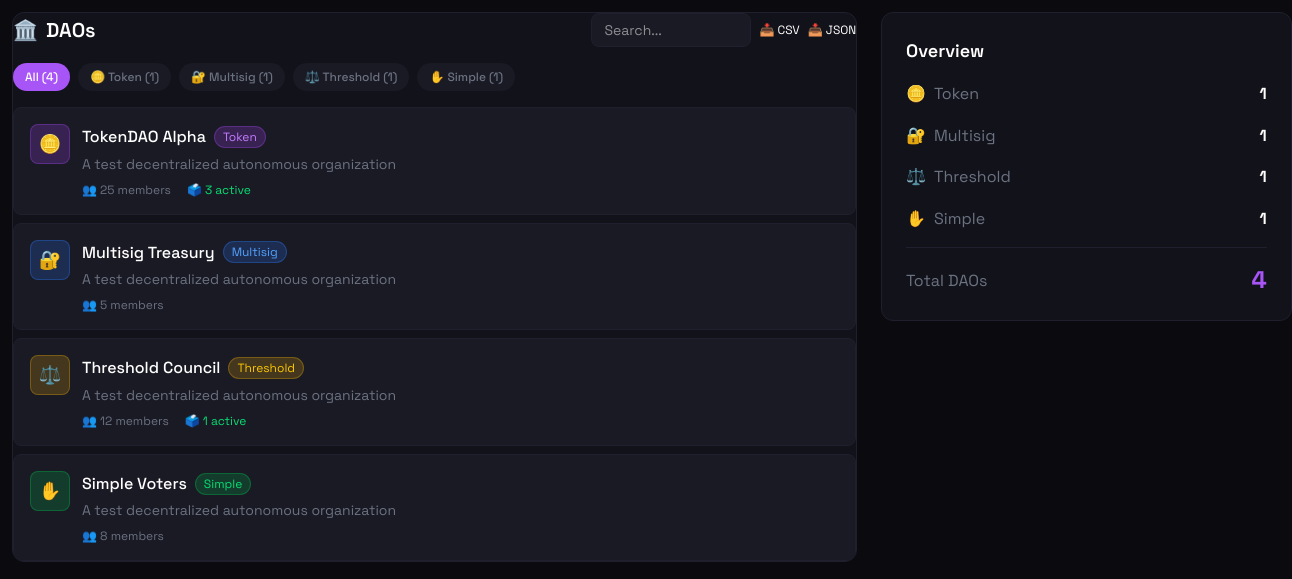
Test: DAOsView › filters DAOs by name via search input
Expected: the text "TokenDAO Alpha" is shown, x1=82 y1=124 x2=206 y2=150
Step 1. Type "Treasury" into the field with placeholder "Search..." → (671, 30), box x1=591 y1=13 x2=751 y2=47
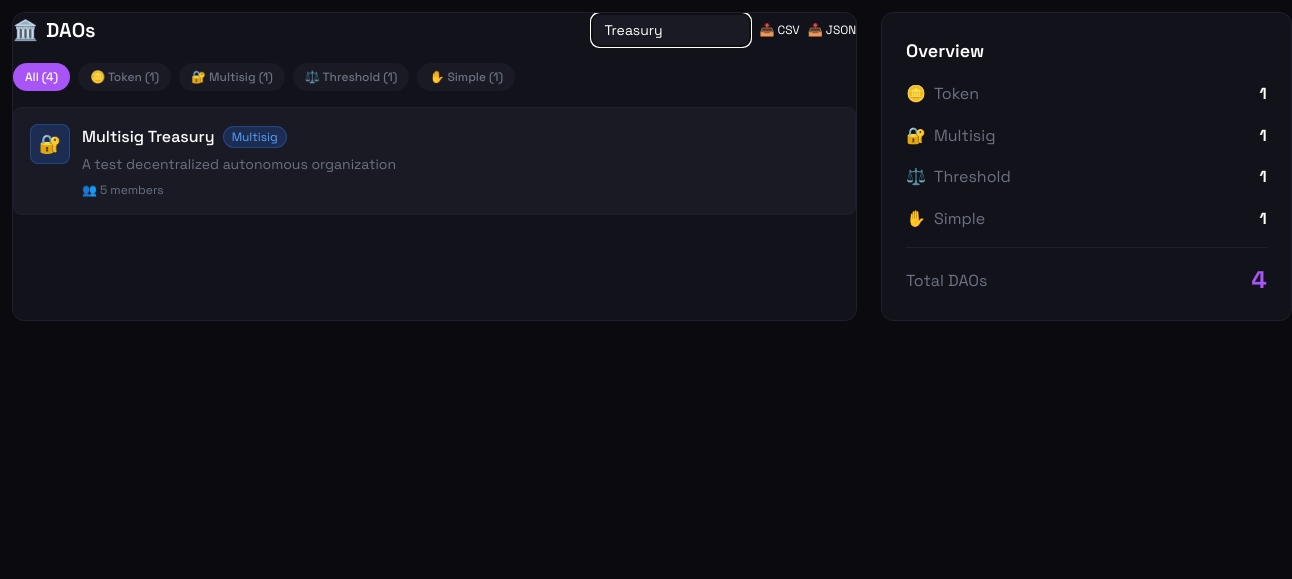
Expected: the text "Multisig Treasury" is shown, x1=82 y1=124 x2=215 y2=150
Now the button "TokenDAO Alpha" is gone
Now the button "Threshold Council" is gone
